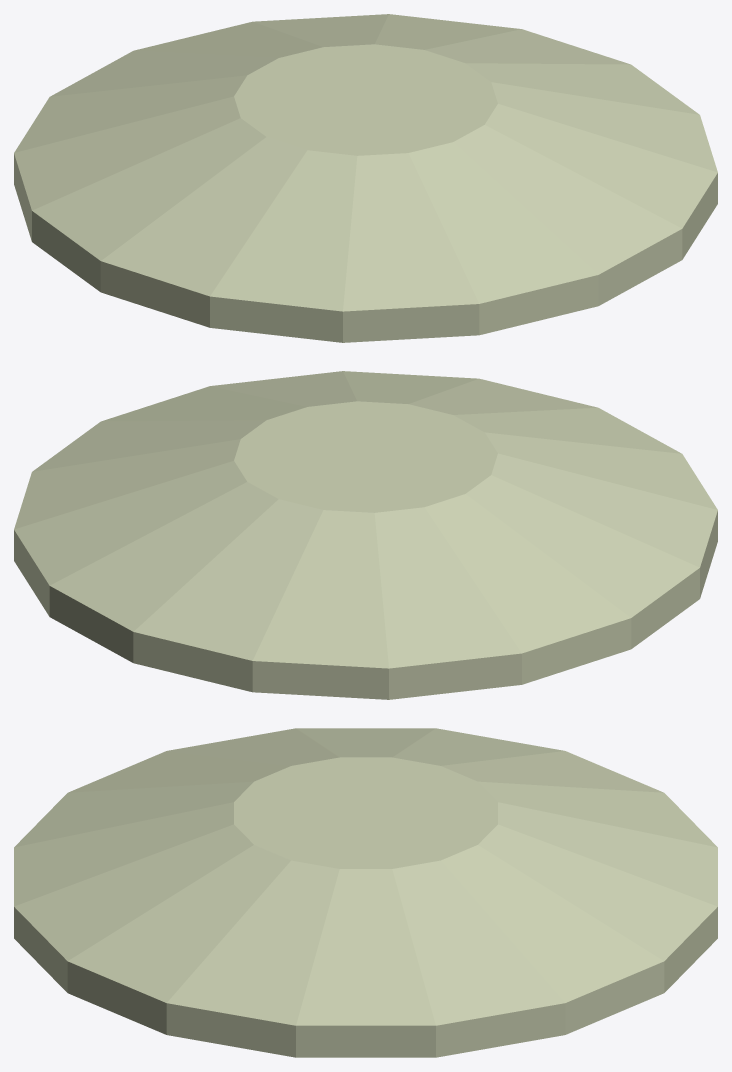
The model's file is tucana_adapter_s2_s0p5_2_collider.obj.
3 renders of one model, top to bottom at view 1: azimuth 30°, elevation 25°; view 2: azimuth 150°, elevation 25°; view 3: azimuth 270°, elevation 25°, orthographic.
Visible parts, largest first — view 1: tucana_adapter_s2_s0p5_2_collider; view 2: tucana_adapter_s2_s0p5_2_collider; view 3: tucana_adapter_s2_s0p5_2_collider.
Part boxes in pixels (x1,y1,x2,y2): tucana_adapter_s2_s0p5_2_collider: (14, 14, 717, 342); tucana_adapter_s2_s0p5_2_collider: (14, 371, 717, 699); tucana_adapter_s2_s0p5_2_collider: (14, 728, 717, 1057).
Bounding box in the file's own units: 2.5 × 0.375 × 2.5.
